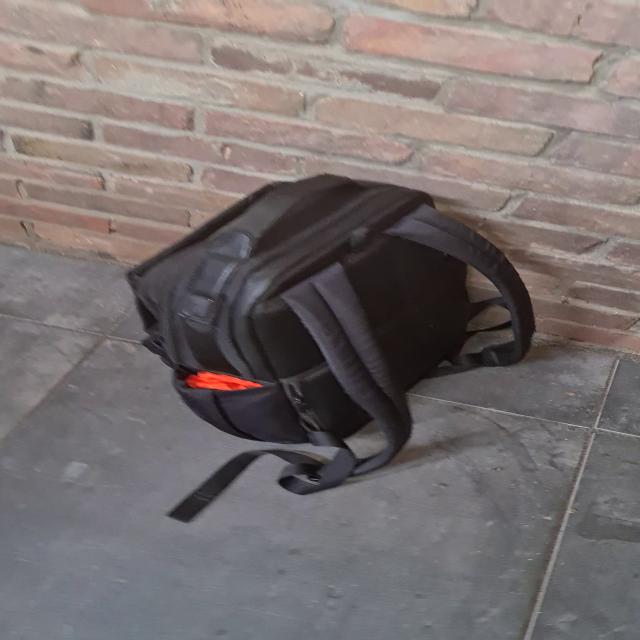backpack: (119, 163, 537, 485)
